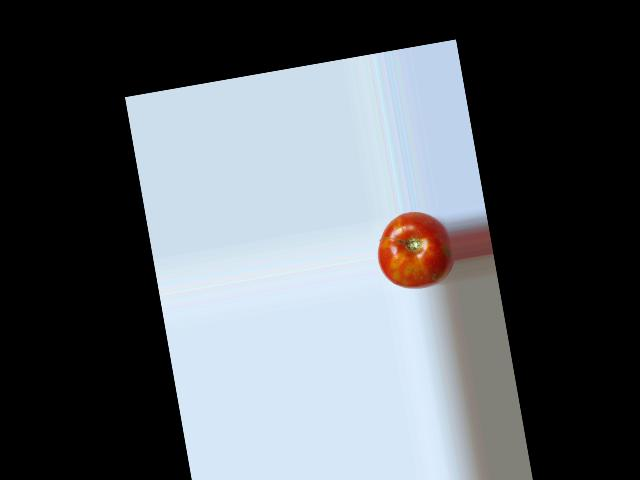tomato: (371, 206, 457, 294)
